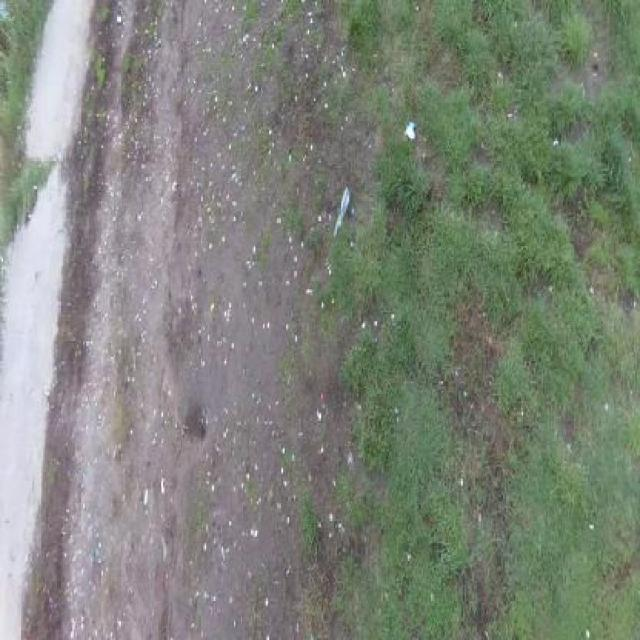Garbage: (333, 186, 350, 239), (404, 120, 415, 142)
